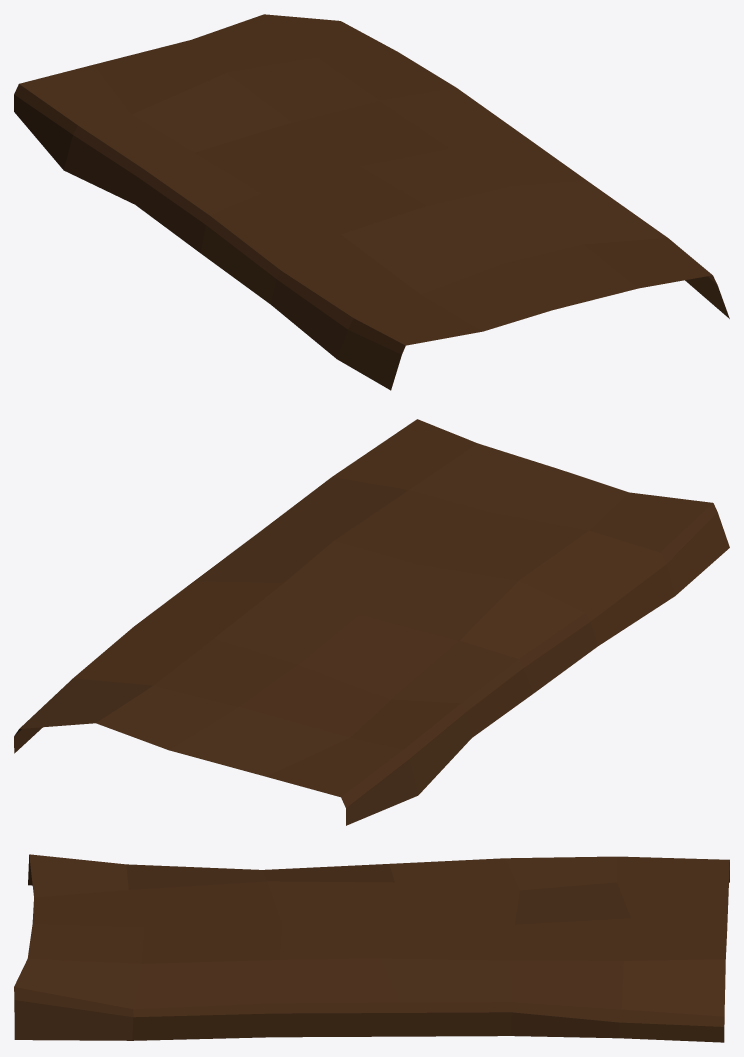
Rendered from RoadDirty_15.fbx.
3 views of the same model, one above another, from view 1: azimuth 30°, elevation 25°; view 2: azimuth 150°, elevation 25°; view 3: azimuth 270°, elevation 25° (orthographic). The views are drawn at different scales.
Parts seen in each view (by area): view 1: RoadDirty_15; view 2: RoadDirty_15; view 3: RoadDirty_15.
Part boxes in pixels (x1,y1,x2,y2): RoadDirty_15: [14, 14, 729, 390]; RoadDirty_15: [14, 419, 729, 825]; RoadDirty_15: [14, 854, 729, 1042].
Bounding box in the file's own units: 308 × 44.81 × 588.
